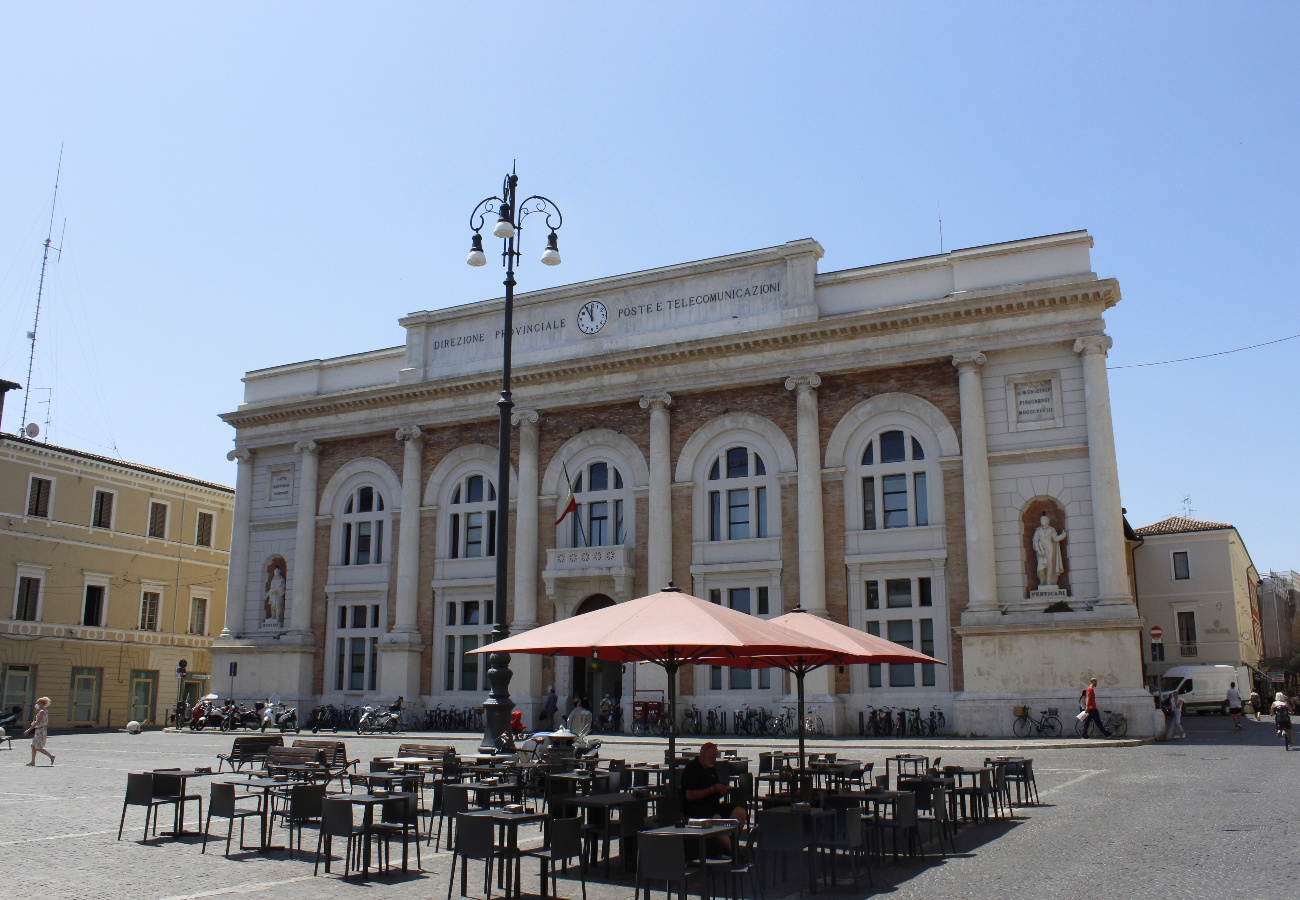Gioachino Rossini: (261, 561, 285, 642)
Giulio Perticari: (1023, 493, 1074, 617)
Palazzo delle Poste: (229, 263, 1116, 738)
